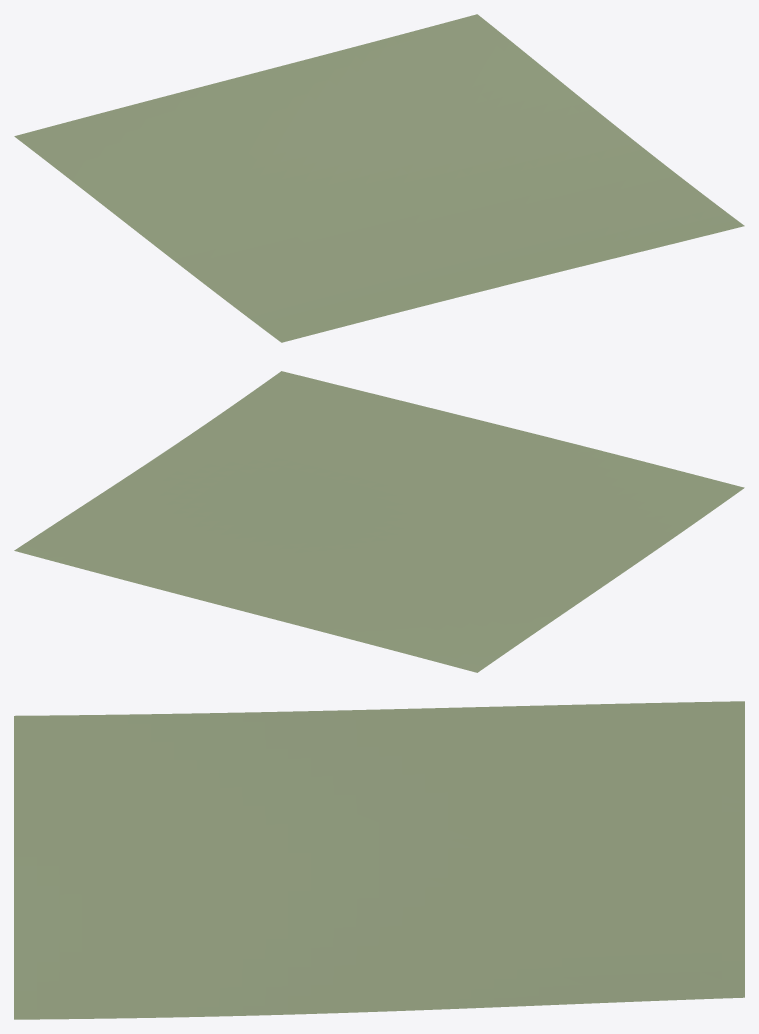
File: desert-19-23.glb
3 renders of one model, top to bottom at view 1: azimuth 30°, elevation 25°; view 2: azimuth 150°, elevation 25°; view 3: azimuth 270°, elevation 25°, orthographic. The views are drawn at different scales.
Visible parts, largest first — view 1: desert-19-23; view 2: desert-19-23; view 3: desert-19-23.
Boxes of the visible parts, x1,y1,x2,y2 form: desert-19-23: (14, 14, 744, 342); desert-19-23: (14, 371, 744, 672); desert-19-23: (14, 701, 744, 1019).
Size of the model in its own units: 512 by 20.88 by 512.
